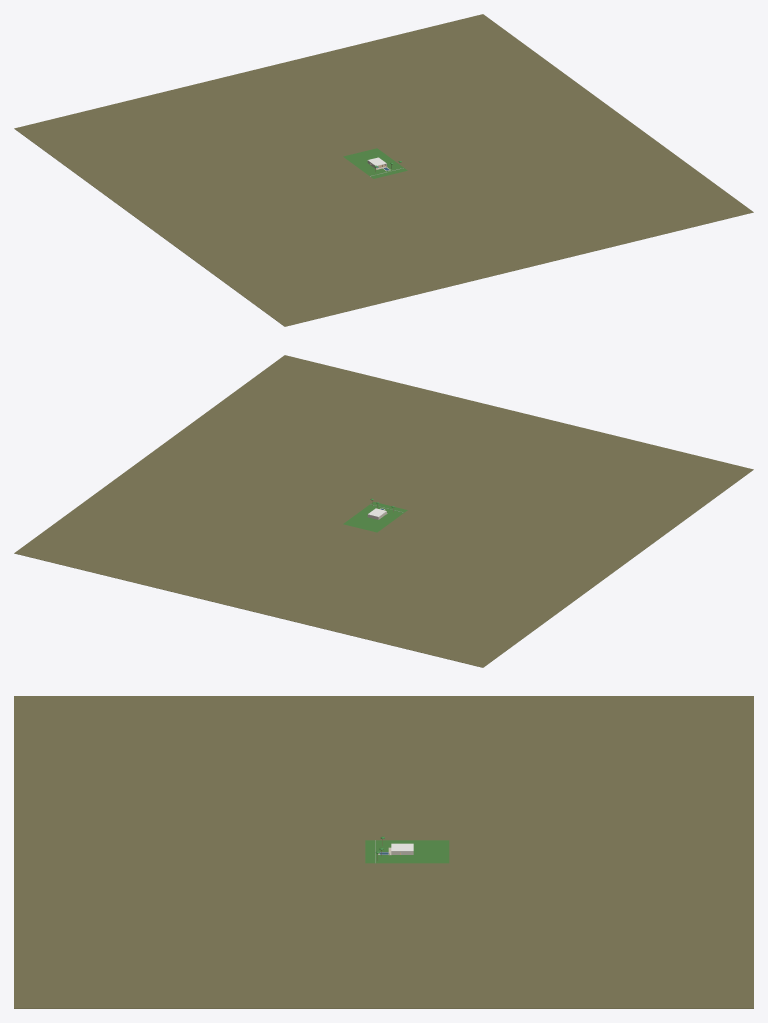
File: room-office.glb
The picture shows the model from 3 angles, top to bottom: view 1: azimuth 30°, elevation 25°; view 2: azimuth 150°, elevation 25°; view 3: azimuth 270°, elevation 25°; orthographic projection. The views are drawn at different scales.
Parts seen in each view (by area): view 1: exterior|MI_floodwater, exterior|MI_lawn; view 2: exterior|MI_floodwater, exterior|MI_lawn; view 3: exterior|MI_floodwater, exterior|MI_lawn.
Part boxes in pixels (x1,y1,x2,y2): exterior|MI_floodwater: [14, 14, 753, 326]; exterior|MI_lawn: [343, 148, 407, 178]; exterior|MI_floodwater: [14, 355, 753, 667]; exterior|MI_lawn: [343, 501, 407, 532]; exterior|MI_floodwater: [14, 696, 753, 1008]; exterior|MI_lawn: [365, 840, 449, 863].
Size of the model in its own units: 600 by 10.03 by 600.
